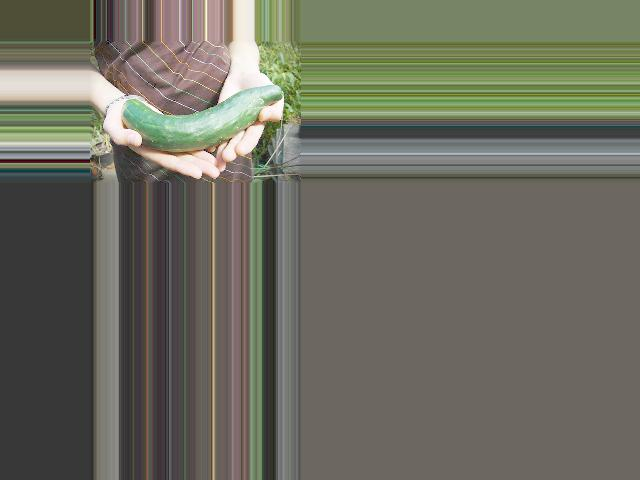cucumber: (120, 85, 282, 152)
